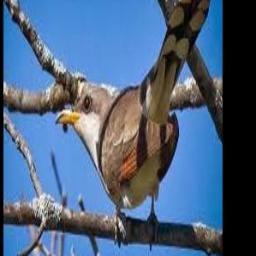Cuckoo: (55, 0, 210, 224)
